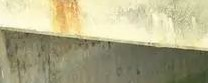Corrosion: (51, 1, 81, 38)
